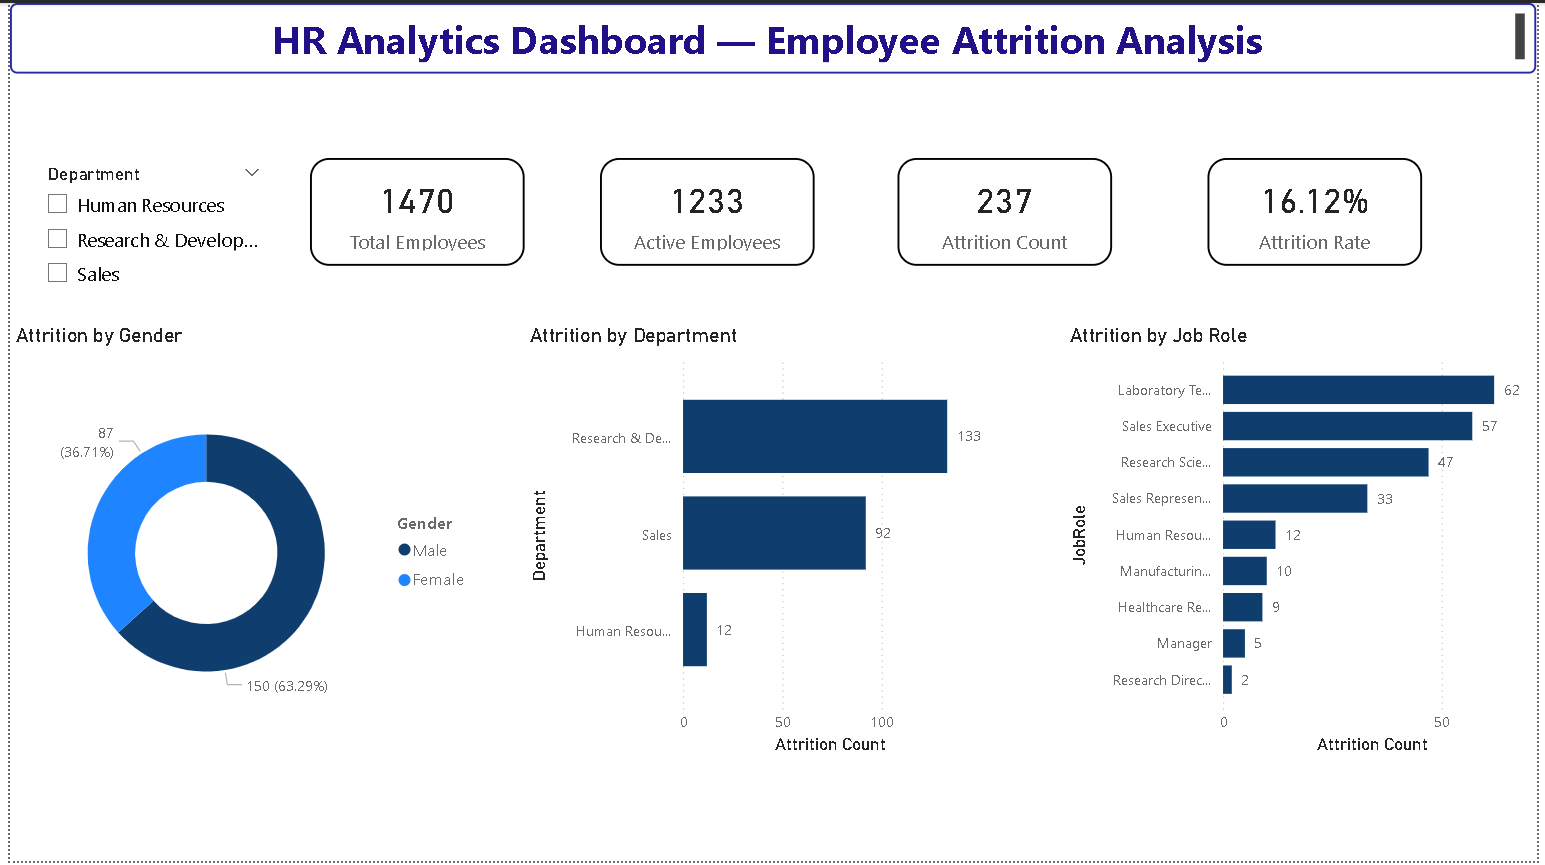

The dashboard page shown, as its layout file describes it:
{"tool":"powerbi","page":{"name":"Page 1","canvas":[1280,720],"ordinal":0},"visuals":[{"type":"card","fields":{"Values":["HR-Employee-Attrition.Total Employees"]},"box":[251.1,130,180,90],"z":0},{"type":"card","fields":{"Values":["HR-Employee-Attrition.Active Employees"]},"box":[494.4,130,180,90],"z":1000},{"type":"card","fields":{"Values":["HR-Employee-Attrition.Attrition Count"]},"box":[744.4,130,180,90],"z":2000},{"type":"card","fields":{"Values":["HR-Employee-Attrition.Attrition Rate"]},"box":[1004.4,130,180,90],"z":3000},{"type":"donutChart","title":" Attrition by Gender","fields":{"Category":["HR-Employee-Attrition.Gender"],"Y":["HR-Employee-Attrition.Attrition Count"]},"box":[0,268.9,395.6,367],"z":4000},{"type":"barChart","title":"Attrition by Department","fields":{"Category":["HR-Employee-Attrition.Department"],"Y":["HR-Employee-Attrition.Attrition Count"]},"box":[431.1,268.9,395.6,366.7],"z":5000},{"type":"barChart","title":"Attrition by Job Role","fields":{"Category":["HR-Employee-Attrition.JobRole"],"Y":["HR-Employee-Attrition.Attrition Count"]},"box":[883.3,268.9,395.6,366.7],"z":6000},{"type":"slicer","fields":{"Values":["HR-Employee-Attrition.Department"]},"box":[18.9,130,203.3,117.8],"z":7000},{"type":"textbox","box":[0,0,1280,58.9],"z":8000}]}

Visuals, with their boxes in screenshot pixels (x1, y1, x2, y2), scaled from the page's 1280x720 canvas onto the 1545x865 screenshot:
card - HR-Employee-Attrition.Total Employees: l=303, t=156, r=520, b=264
card - HR-Employee-Attrition.Active Employees: l=597, t=156, r=814, b=264
card - HR-Employee-Attrition.Attrition Count: l=899, t=156, r=1116, b=264
card - HR-Employee-Attrition.Attrition Rate: l=1212, t=156, r=1430, b=264
" Attrition by Gender" donutChart: l=0, t=323, r=478, b=764
"Attrition by Department" barChart: l=520, t=323, r=998, b=764
"Attrition by Job Role" barChart: l=1066, t=323, r=1544, b=764
slicer - HR-Employee-Attrition.Department: l=23, t=156, r=268, b=298
textbox: l=0, t=0, r=1544, b=71
